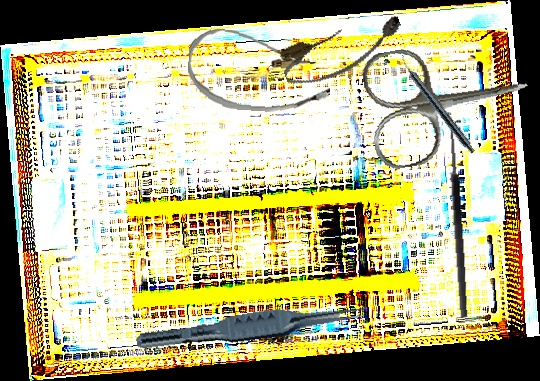Cannula: (185, 27, 334, 116), (276, 7, 410, 94)
Handpiece: (395, 53, 479, 156)
Hook Surgical: (436, 116, 469, 319)
Iris Scissors: (359, 28, 538, 173)
Tissue Forceps: (135, 293, 368, 363)
